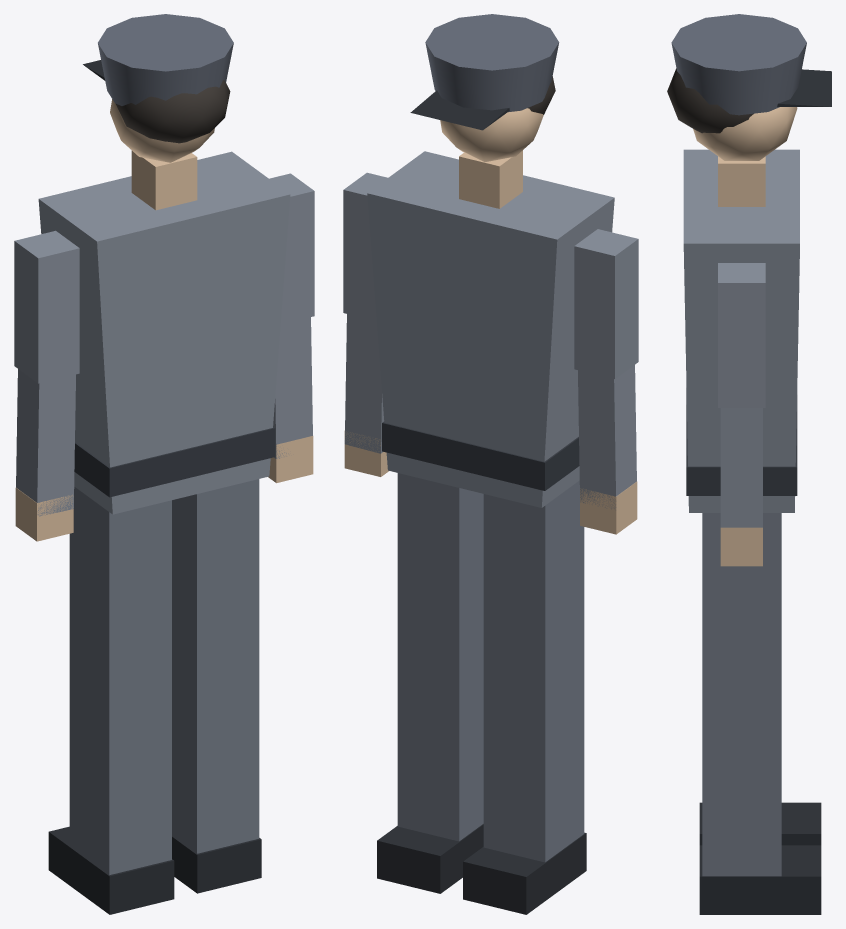
Rendered from guard.glb.
The picture shows the model from 3 angles, left to right: view 1: azimuth 30°, elevation 25°; view 2: azimuth 150°, elevation 25°; view 3: azimuth 270°, elevation 25°; orthographic projection.
Parts seen in each view (by area): view 1: Body, LegL, LegR; view 2: Body, LegL, LegR; view 3: Body, LegR, LegL.
Boxes of the visible parts, x1,y1,x2,y2 form: Body: (14, 14, 314, 541); LegL: (48, 487, 174, 914); LegR: (172, 479, 261, 893); Body: (343, 14, 638, 534); LegL: (463, 480, 586, 914); LegR: (377, 473, 483, 893); Body: (667, 14, 831, 566); LegR: (699, 513, 821, 914); LegL: (699, 802, 821, 845).
Bounding box in the file's own units: 0.6 × 1.74 × 0.3113.
